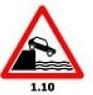road_sign: (0, 3, 86, 81)
